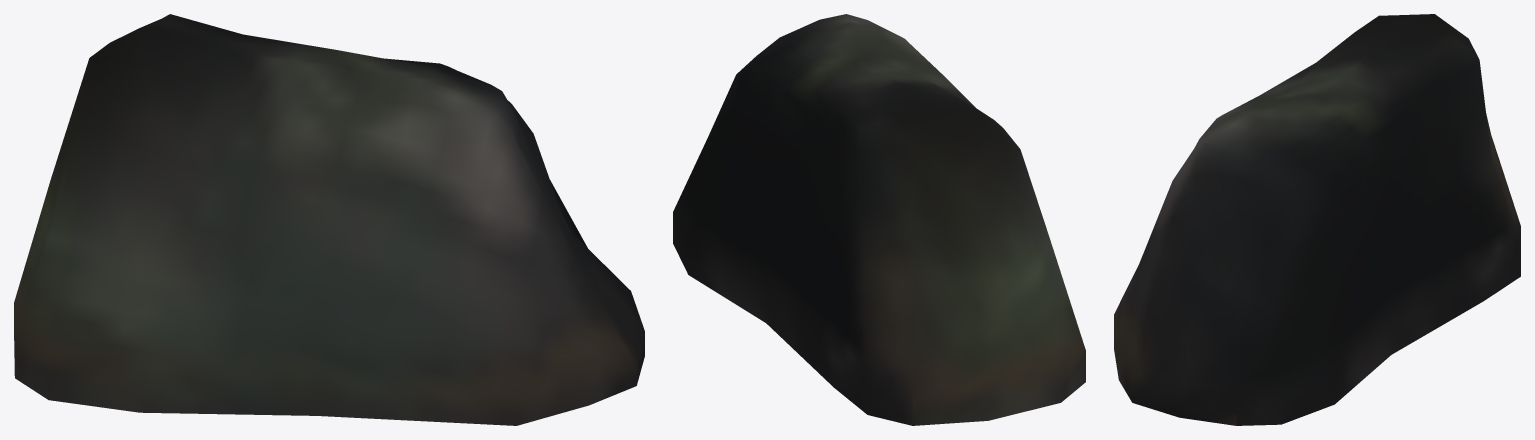
File: Beach_RockThin.glb
3 views of the same model, side by side, from view 1: azimuth 30°, elevation 25°; view 2: azimuth 150°, elevation 25°; view 3: azimuth 270°, elevation 25° (orthographic). The views are drawn at different scales.
Parts seen in each view (by area): view 1: Object_2.013; view 2: Object_2.013; view 3: Object_2.013.
Boxes of the visible parts, x1,y1,x2,y2 form: Object_2.013: [14, 14, 644, 425]; Object_2.013: [673, 14, 1085, 425]; Object_2.013: [1114, 14, 1520, 425].
Bounding box in the file's own units: 14.23 × 7.92 × 11.63.
Materials: 1 (1 with a texture image).
